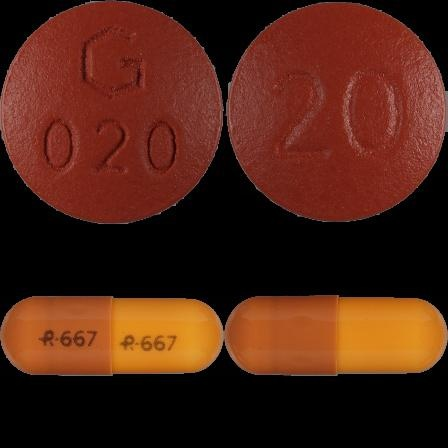68151-1022: (0, 0, 224, 224)
